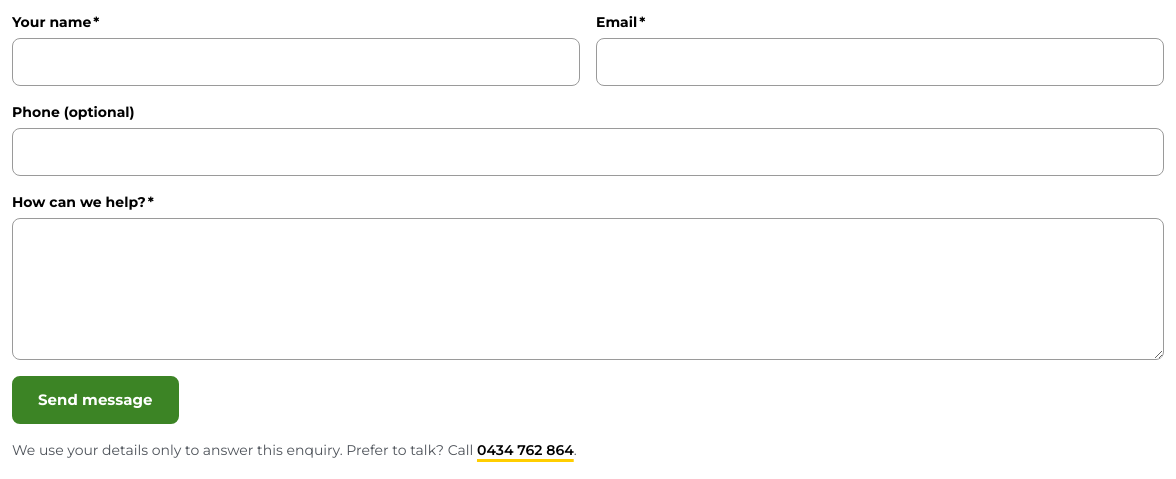
Scenario: EnquiryForm › sends the contact fields, always with an empty honeypot, then shows the reference
Type "Jane Citizen" into the field labelled "Your name*". click: (296, 62)
box: top-left (12, 38), bottom-right (580, 86)
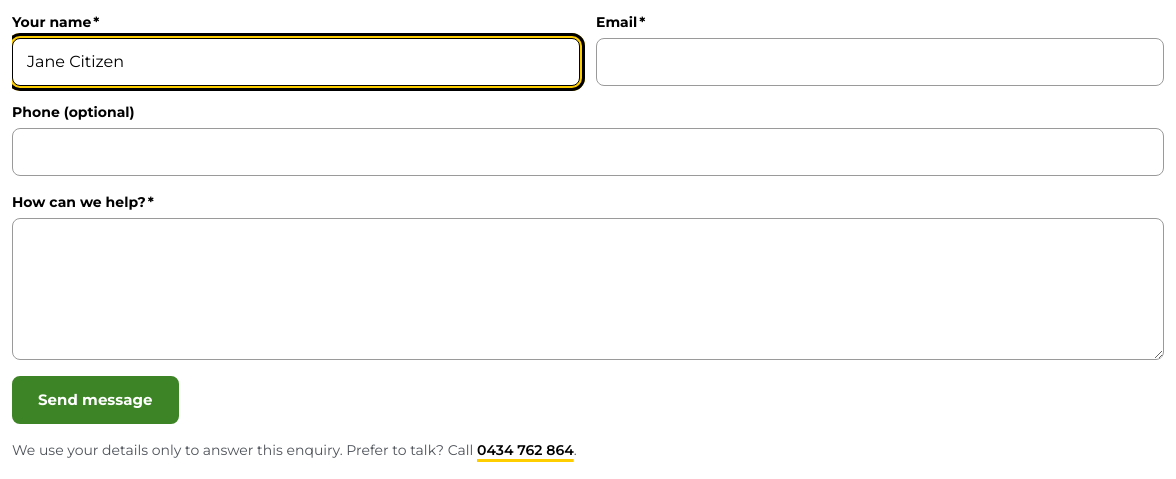
Type "jane@example.com" into the field labelled "Email*". click: (880, 62)
box: top-left (596, 38), bottom-right (1164, 86)
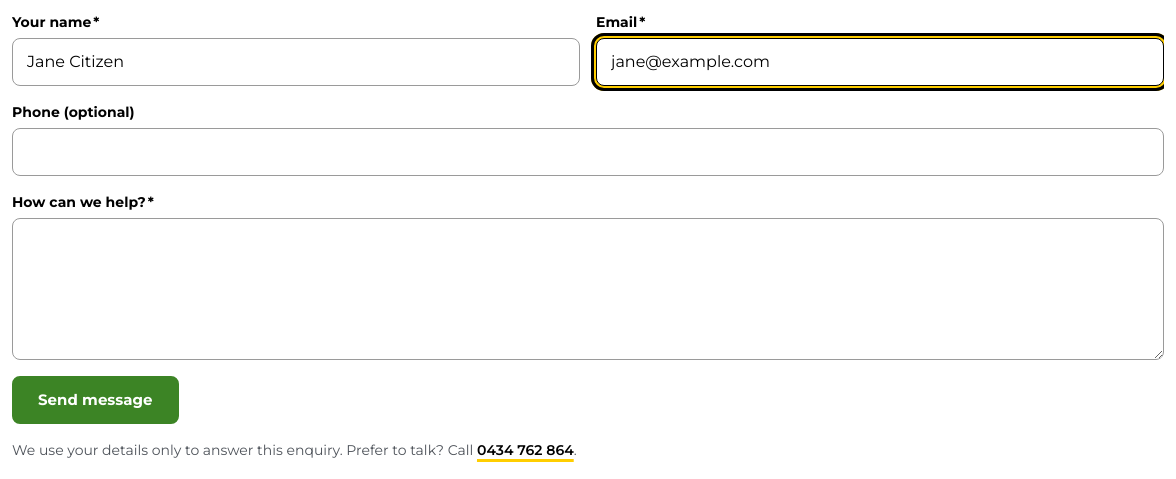
Type "Do you fit run-flat tyres?" into the text box labelled "How can we help?*". click: (588, 289)
box: top-left (12, 218), bottom-right (1164, 360)
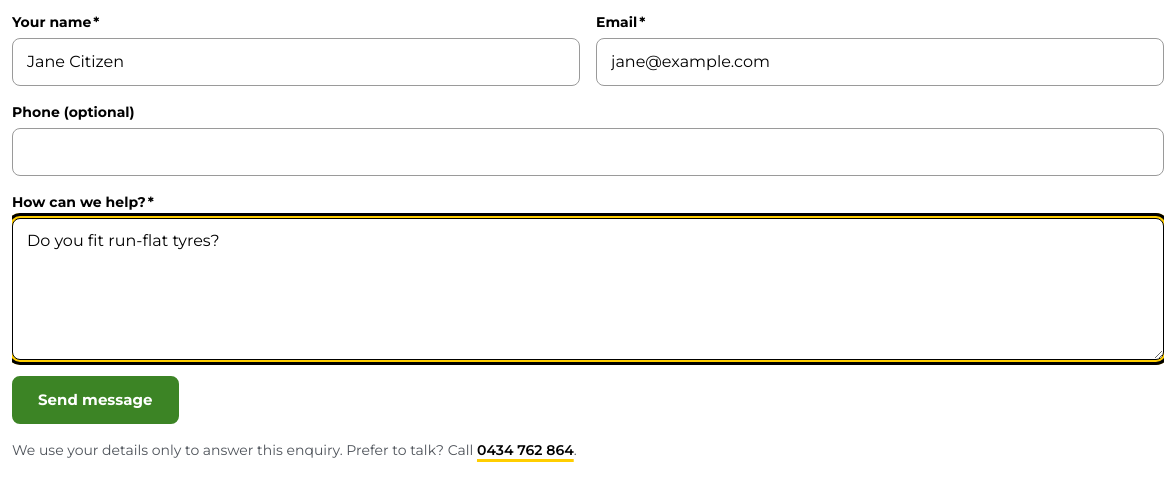
Click the button "Send message". click: (95, 400)
box: top-left (12, 376), bottom-right (179, 424)
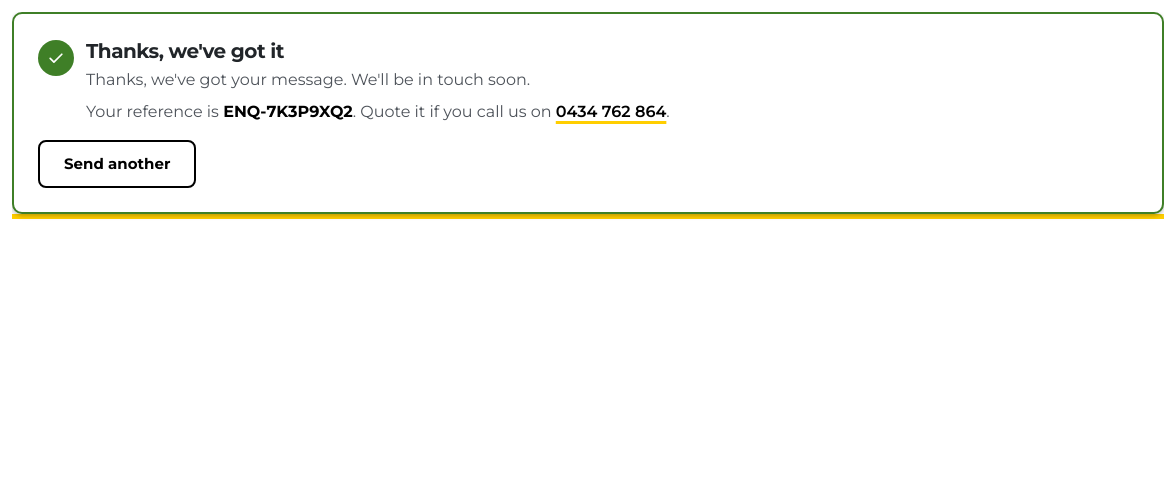
Now the text with test id "enquiry-reference" reads "ENQ-7K3P9XQ2", box top-left (223, 102), bottom-right (353, 121)
Now the message with test id "enquiry-success" is shown, box top-left (12, 12), bottom-right (1164, 214)
